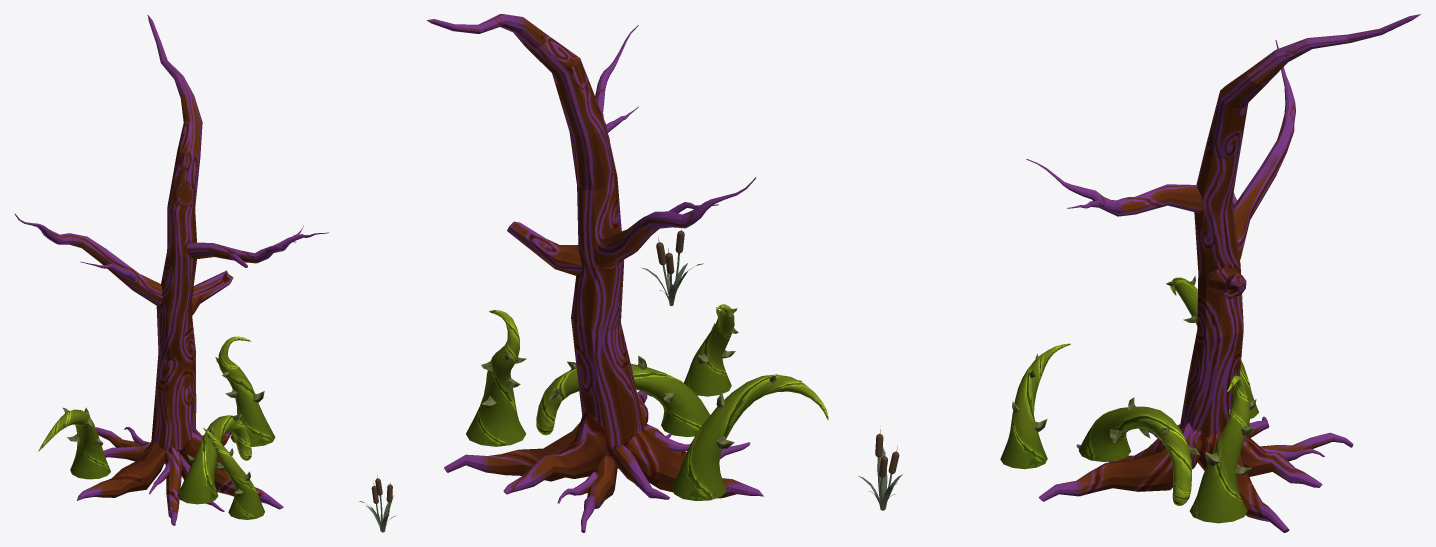
The model's file is swamp_scene.fbx.
3 views of the same model, side by side, from view 1: azimuth 30°, elevation 25°; view 2: azimuth 150°, elevation 25°; view 3: azimuth 270°, elevation 25° (orthographic). The views are drawn at different scales.
Parts seen in each view (by area): view 1: pCylinder9group16, polySurface48polySurface46, polySurface69polySurface16, polySurface67polySurface23, group16pCylinder12, group16pasted__pasted__pasted__pCylinder9, polySurface56polySurface37, group16pasted__pasted__pCylinder25, group16pCylinder10, group16pCylinder16, group16pasted__pasted__pCylinder9, group16pCylinder19; view 2: pCylinder9group16, polySurface67polySurface23, polySurface48polySurface46, polySurface69polySurface16, group16pCylinder15, group16pasted__pasted__pasted__pCylinder9, polySurface56polySurface37, group16pCylinder12, group16pCylinder11, group16pasted__pasted__pCylinder9, group16pCylinder13, group16pCylinder19 (+3 smaller); view 3: pCylinder9group16, polySurface48polySurface46, polySurface69polySurface16, group16pCylinder10, polySurface56polySurface37, group16pasted__pasted__pasted__pCylinder9, group16pasted__pasted__pCylinder25, group16pCylinder15, group16pCylinder11, polySurface67polySurface23, group16pasted__pasted__pCylinder9, group16pCylinder13.
Boxes of the visible parts, x1,y1,x2,y2 form: pCylinder9group16: (147, 14, 202, 452); polySurface48polySurface46: (177, 415, 251, 504); polySurface69polySurface16: (218, 336, 275, 446); polySurface67polySurface23: (38, 409, 110, 479); group16pCylinder12: (77, 441, 165, 500); group16pasted__pasted__pasted__pCylinder9: (14, 214, 162, 306); polySurface56polySurface37: (203, 427, 264, 519); group16pasted__pasted__pCylinder25: (187, 241, 295, 263); group16pCylinder10: (180, 429, 283, 509); group16pCylinder16: (165, 446, 181, 525); group16pasted__pasted__pCylinder9: (191, 270, 233, 315); group16pCylinder19: (103, 442, 150, 461); pCylinder9group16: (426, 14, 644, 468); polySurface67polySurface23: (672, 374, 828, 500); polySurface48polySurface46: (536, 364, 710, 436); polySurface69polySurface16: (466, 310, 525, 446); group16pCylinder15: (503, 410, 610, 494); group16pasted__pasted__pasted__pCylinder9: (594, 177, 755, 267); polySurface56polySurface37: (684, 304, 734, 396); group16pCylinder12: (625, 429, 763, 498); group16pCylinder11: (444, 422, 580, 481); group16pasted__pasted__pCylinder9: (507, 221, 582, 275); group16pCylinder13: (581, 456, 617, 532); group16pCylinder19: (611, 445, 669, 499); pCylinder9group16: (1179, 14, 1421, 437); polySurface48polySurface46: (1078, 406, 1191, 505); polySurface69polySurface16: (1189, 375, 1250, 523); group16pCylinder10: (1038, 422, 1204, 501); polySurface56polySurface37: (1000, 343, 1071, 469); group16pasted__pasted__pasted__pCylinder9: (1232, 40, 1295, 259); group16pasted__pasted__pCylinder25: (1026, 159, 1203, 216); group16pCylinder15: (1240, 435, 1322, 487); group16pCylinder11: (1197, 432, 1289, 532); polySurface67polySurface23: (1170, 277, 1258, 418); group16pasted__pasted__pCylinder9: (1207, 267, 1246, 299); group16pCylinder13: (1260, 432, 1353, 461).
Size of the model in its own units: 12.98 by 19.57 by 19.62.
